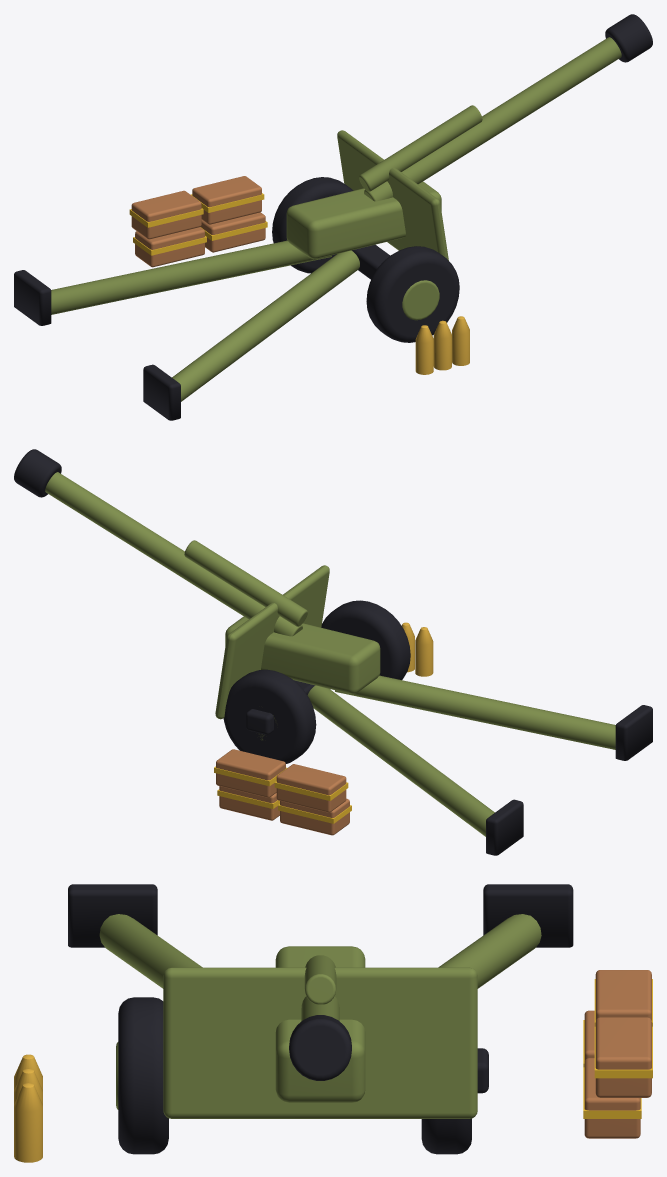
File: howitzer.glb
The picture shows the model from 3 angles, top to bottom: view 1: azimuth 30°, elevation 25°; view 2: azimuth 150°, elevation 25°; view 3: azimuth 270°, elevation 25°; orthographic projection. The views are drawn at different scales.
Parts seen in each view (by area): view 1: howitzer.001, barrel.018; view 2: howitzer.001, barrel.018; view 3: howitzer.001, barrel.018.
Part boxes in pixels (x1,y1,x2,y2): howitzer.001: (14, 130, 469, 420); barrel.018: (359, 14, 652, 201); howitzer.001: (214, 565, 652, 855); barrel.018: (14, 449, 307, 636); howitzer.001: (14, 884, 652, 1162); barrel.018: (289, 955, 351, 1080).
Size of the model in its own units: 9.19 by 3.39 by 5.69.
1 material, 1 textured.
